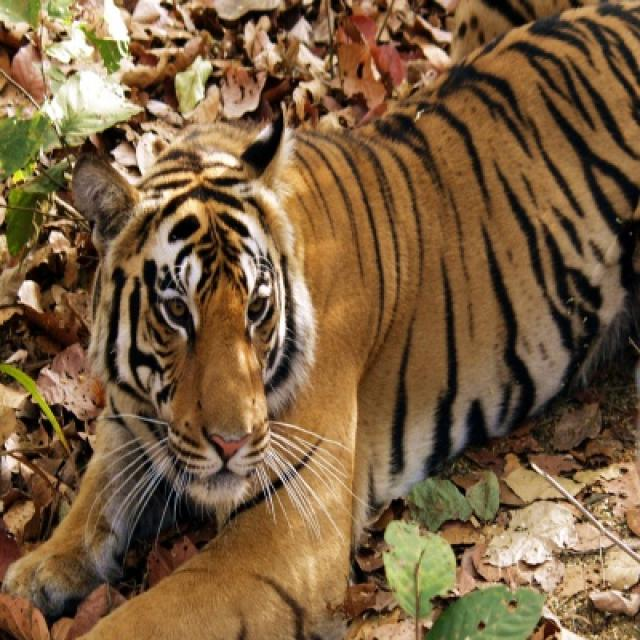Tiger: (2, 0, 638, 638)
